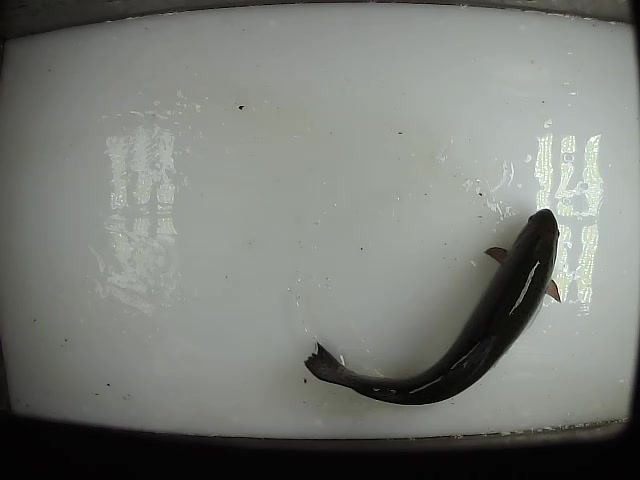fish: (303, 207, 560, 406)
